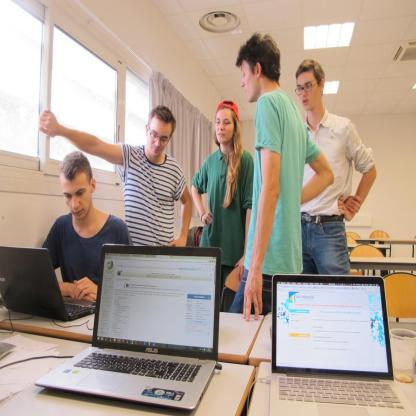board: (34, 246, 228, 410), (269, 274, 416, 416), (0, 246, 96, 322)
